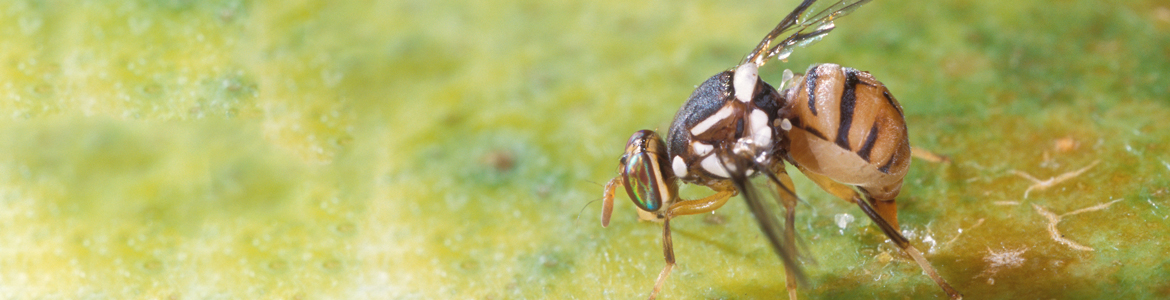Fruit fly: (610, 11, 945, 271)
